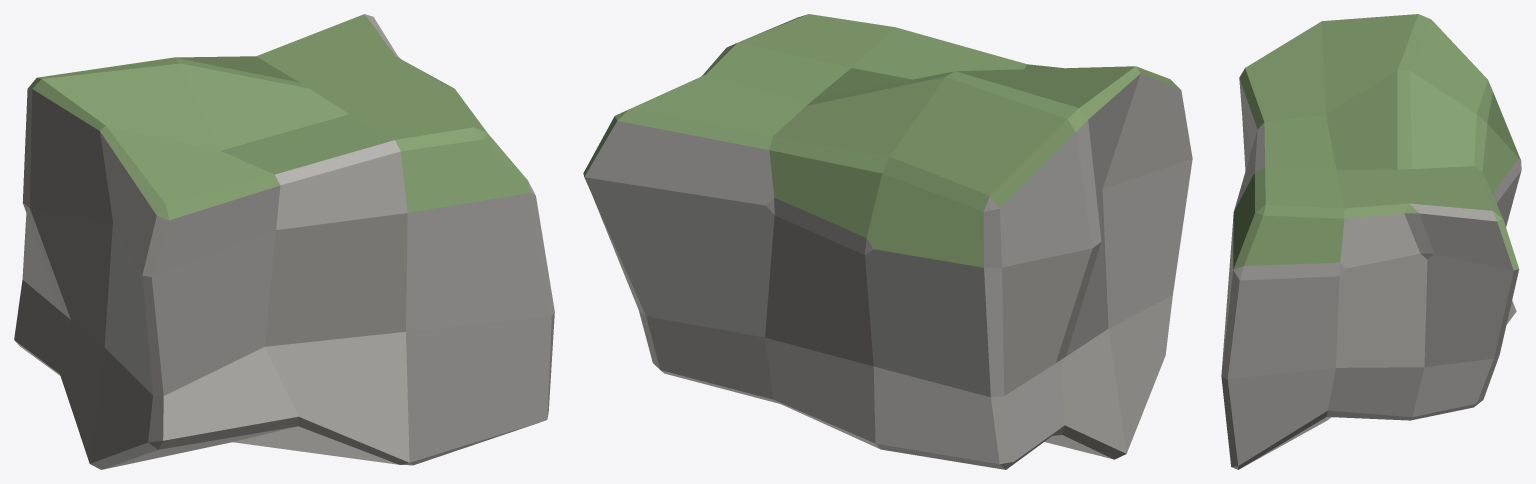
Rendered from boulder.glb.
The picture shows the model from 3 angles, left to right: view 1: azimuth 30°, elevation 25°; view 2: azimuth 150°, elevation 25°; view 3: azimuth 270°, elevation 25°; orthographic projection. The views are drawn at different scales.
Parts seen in each view (by area): view 1: boulder; view 2: boulder; view 3: boulder.
Boxes of the visible parts, bbox=[...] form: boulder: bbox=[14, 14, 554, 469]; boulder: bbox=[583, 14, 1192, 469]; boulder: bbox=[1221, 14, 1521, 469].
Bounding box in the file's own units: 3.24 × 2.75 × 2.45.
